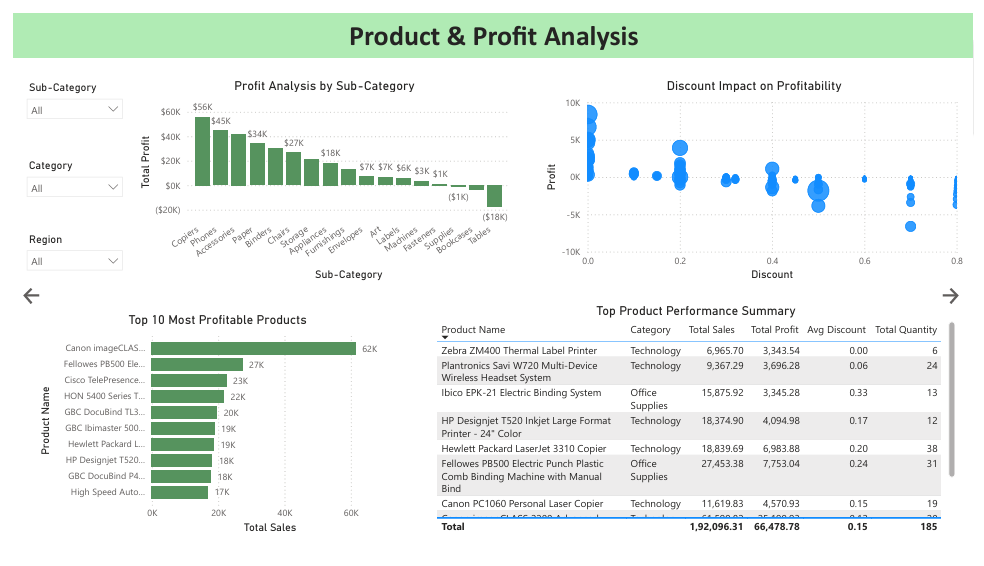

What the dashboard file says about the page in this screenshot:
{"tool":"powerbi","page":{"name":"Product and Profit Analysis","canvas":[1280,720],"ordinal":1},"visuals":[{"type":"clusteredBarChart","title":"Top 10 Most Profitable Products","fields":{"Category":["Cleaned_Superstore.Product Name"],"Y":["Table.Total Sales"]},"box":[29.3,396.6,484.4,300],"z":0},{"type":"clusteredColumnChart","title":"Profit Analysis by Sub-Category","fields":{"Category":["Cleaned_Superstore.Sub-Category"],"Y":["Table.Total Profit"]},"box":[162.4,84.9,503.4,275.1],"z":1000},{"type":"scatterChart","title":"Discount Impact on Profitability","fields":{"X":["Cleaned_Superstore.Discount"],"Y":["Cleaned_Superstore.Profit"],"Size":["Sum(Cleaned_Superstore.Sales)"]},"box":[703.9,84.9,566.3,275.1],"z":2000},{"type":"tableEx","title":"Top Product Performance Summary","fields":{"Values":["Cleaned_Superstore.Product Name","Cleaned_Superstore.Category","Sum(Cleaned_Superstore.Sales)","Sum(Cleaned_Superstore.Profit)","Avg(Cleaned_Superstore.Discount)","Sum(Cleaned_Superstore.Quantity)"]},"box":[559,386.3,701,310.2],"z":3000},{"type":"slicer","fields":{"Values":["Cleaned_Superstore.Category"]},"box":[7.3,188.8,147.8,67.3],"z":4000},{"type":"slicer","fields":{"Values":["Cleaned_Superstore.Sub-Category"]},"box":[7.3,84.9,147.8,77.6],"z":5000},{"type":"slicer","fields":{"Values":["Cleaned_Superstore.Region"]},"box":[7.3,286.8,147.8,60],"z":6000},{"type":"textbox","box":[0,0,1280.5,60],"z":7000},{"type":"actionButton","box":[1233,361,33,30],"z":8000},{"type":"actionButton","box":[9,361,33,30],"z":9000}]}

Visuals, with their boxes in screenshot pixels (x1, y1, x2, y2), scaled from the page's 1280x720 canvas onto the 984x566 screenshot:
"Top 10 Most Profitable Products" clusteredBarChart: 23:312:395:548
"Profit Analysis by Sub-Category" clusteredColumnChart: 125:67:512:283
"Discount Impact on Profitability" scatterChart: 541:67:976:283
"Top Product Performance Summary" tableEx: 430:304:969:548
slicer - Cleaned_Superstore.Category: 6:148:119:201
slicer - Cleaned_Superstore.Sub-Category: 6:67:119:128
slicer - Cleaned_Superstore.Region: 6:225:119:273
textbox: 0:0:983:47
actionButton: 948:284:973:307
actionButton: 7:284:32:307
